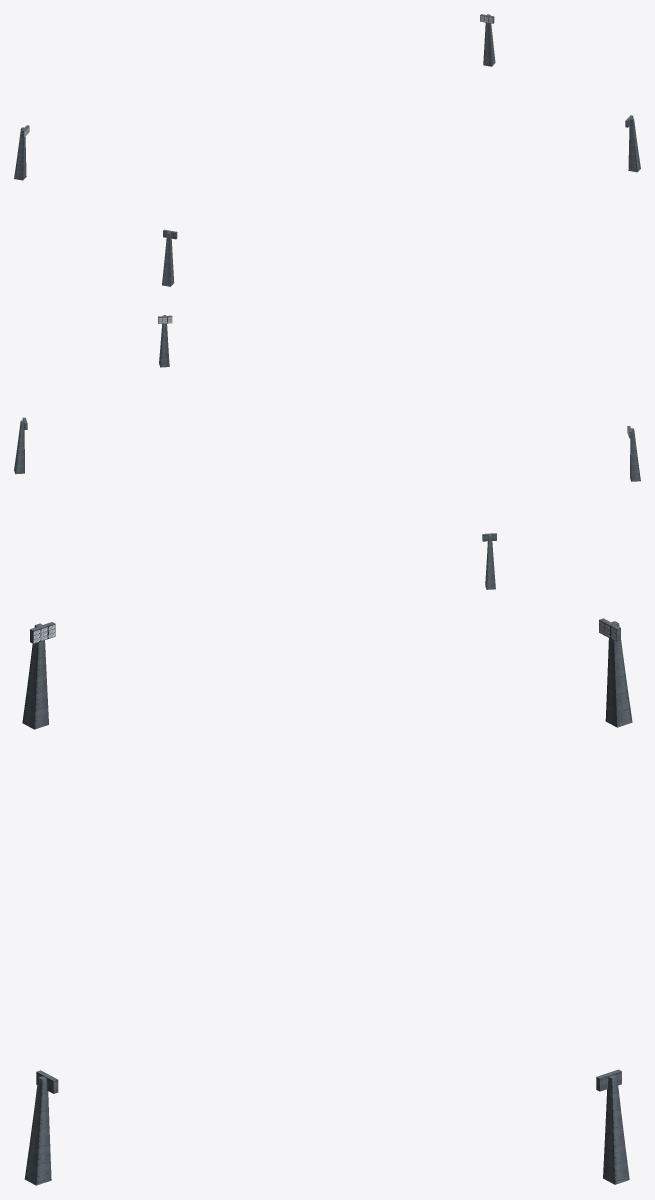
Rendered from hc_stadlight1_sfs.obj.
3 renders of one model, top to bottom at view 1: azimuth 30°, elevation 25°; view 2: azimuth 150°, elevation 25°; view 3: azimuth 270°, elevation 25°, orthographic. The views are drawn at different scales.
Visible parts, largest first — view 1: hc_stadlight1_SFS; view 2: hc_stadlight1_SFS; view 3: hc_stadlight1_SFS.
Boxes of the visible parts, bbox=[...] form: hc_stadlight1_SFS: bbox=[14, 14, 640, 286]; hc_stadlight1_SFS: bbox=[14, 315, 640, 589]; hc_stadlight1_SFS: bbox=[22, 618, 632, 1185].
Size of the model in its own units: 78.27 by 7.88 by 43.01.
2 materials, 2 textured.
